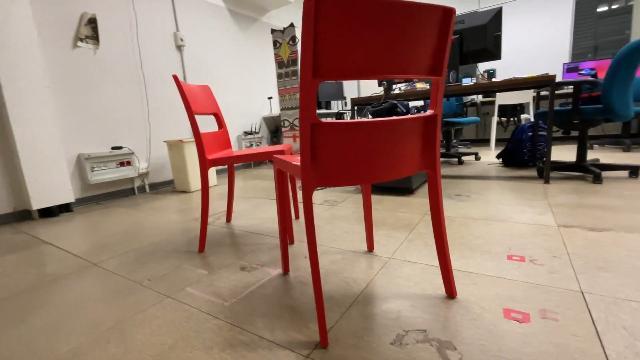Chair: (272, 0, 462, 360), (168, 70, 304, 258)
